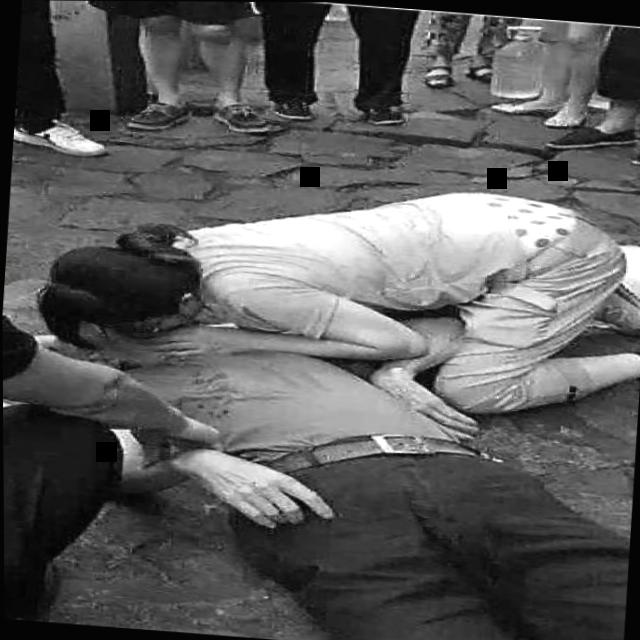Fall-Detected: (37, 259, 640, 640)
